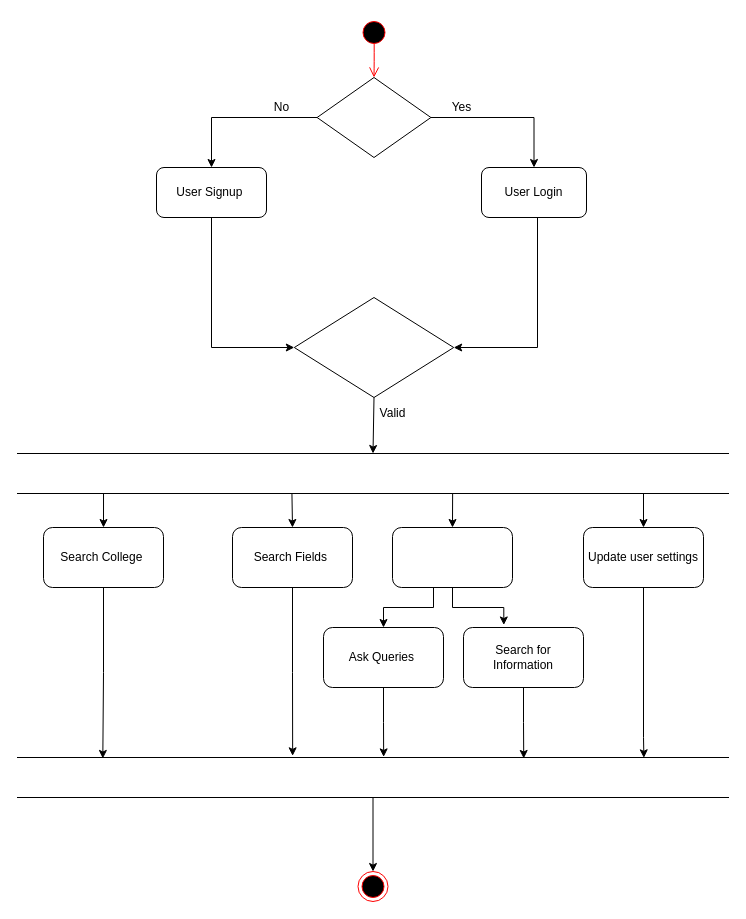
Some shapes in this 746 by 919 pixel diagram are drawn without their labels. Each missing label, with the centre of its shape:
"Authentication" belongs at pixel 373 347.
"Existing User ?" belongs at pixel 373 117.
"Interact with Chatbot" belongs at pixel 452 557.
